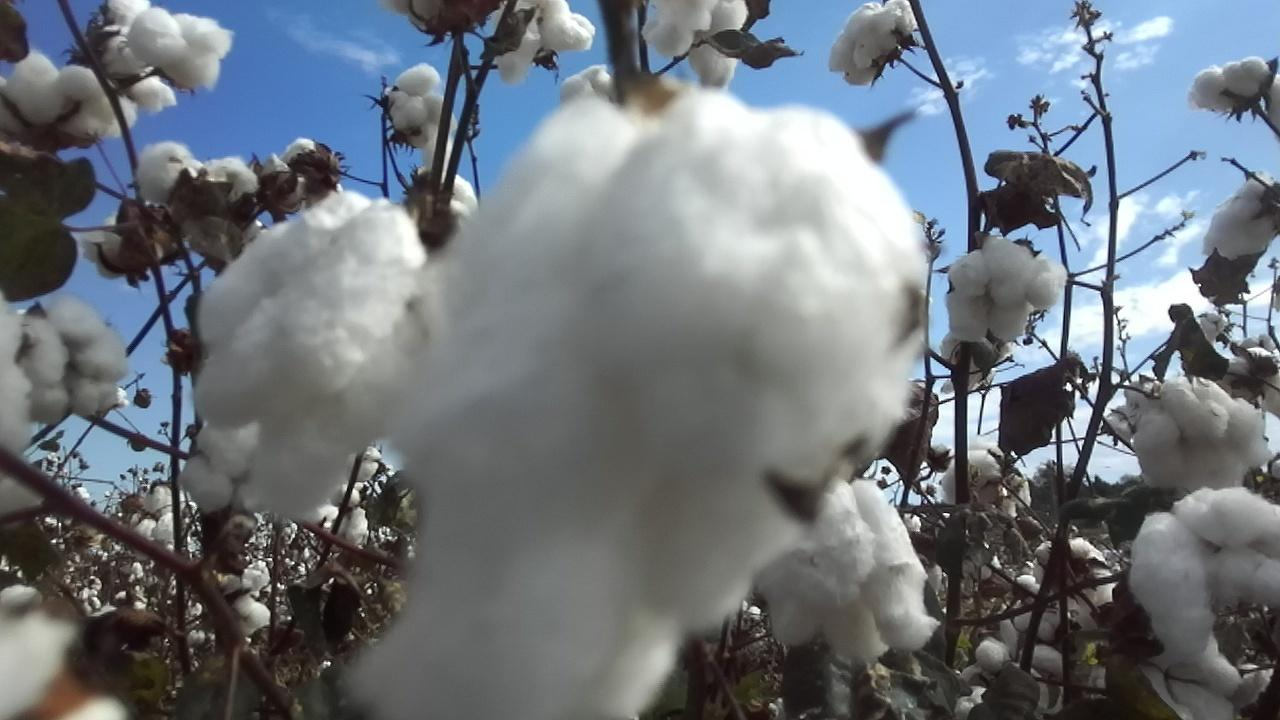cotton_ready: (341, 80, 939, 720), (191, 192, 432, 519), (1125, 484, 1280, 699), (754, 481, 935, 664), (0, 585, 134, 720), (1130, 377, 1273, 490), (16, 293, 130, 417), (945, 239, 1065, 344), (0, 49, 134, 142), (0, 286, 50, 514), (640, 0, 750, 94), (97, 0, 180, 117), (131, 10, 234, 92), (497, 0, 597, 84), (827, 0, 917, 87), (133, 142, 259, 204), (941, 439, 1037, 517), (390, 62, 461, 166), (1202, 173, 1280, 262), (559, 64, 708, 109), (1032, 537, 1115, 614), (1139, 662, 1245, 720), (973, 614, 1065, 680), (79, 215, 169, 282), (411, 165, 482, 242), (120, 484, 195, 553), (1187, 53, 1265, 115), (263, 139, 335, 203), (225, 562, 275, 639), (1235, 337, 1280, 417), (1105, 384, 1164, 445), (316, 489, 375, 547), (344, 442, 385, 480)
